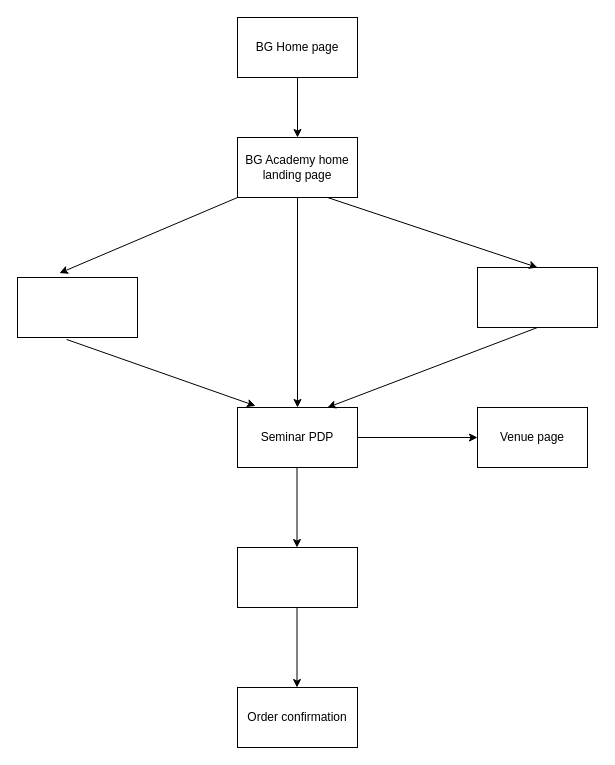
Image size: 615x765. Some labels were removed from this diagram. The shapes that lost their labels are listed below. From the top down, each one's centre as x and y in pixels, then its label:
point 77,307: Academy CLP
point 537,297: Academy search page
point 297,577: Checkout
